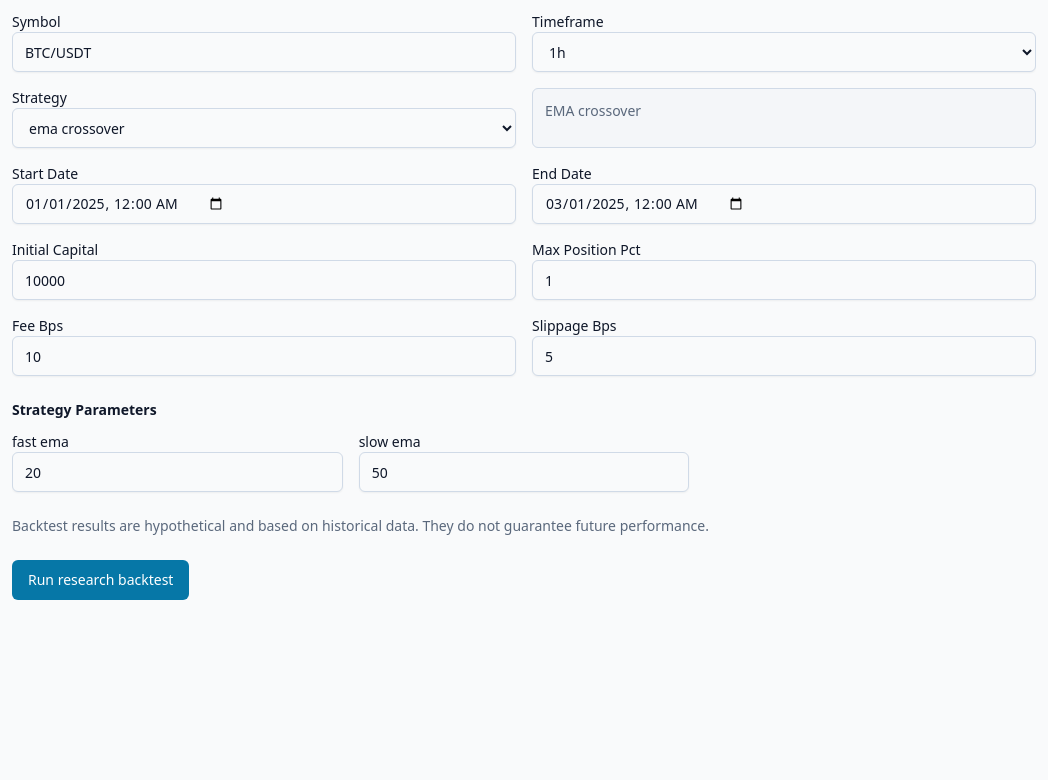
Test: BacktestForm › validates required fields
The width and height of the screenshot is (1048, 780).
Clear the field labelled "Symbol" at x=264, y=52, box [12,32,516,72]
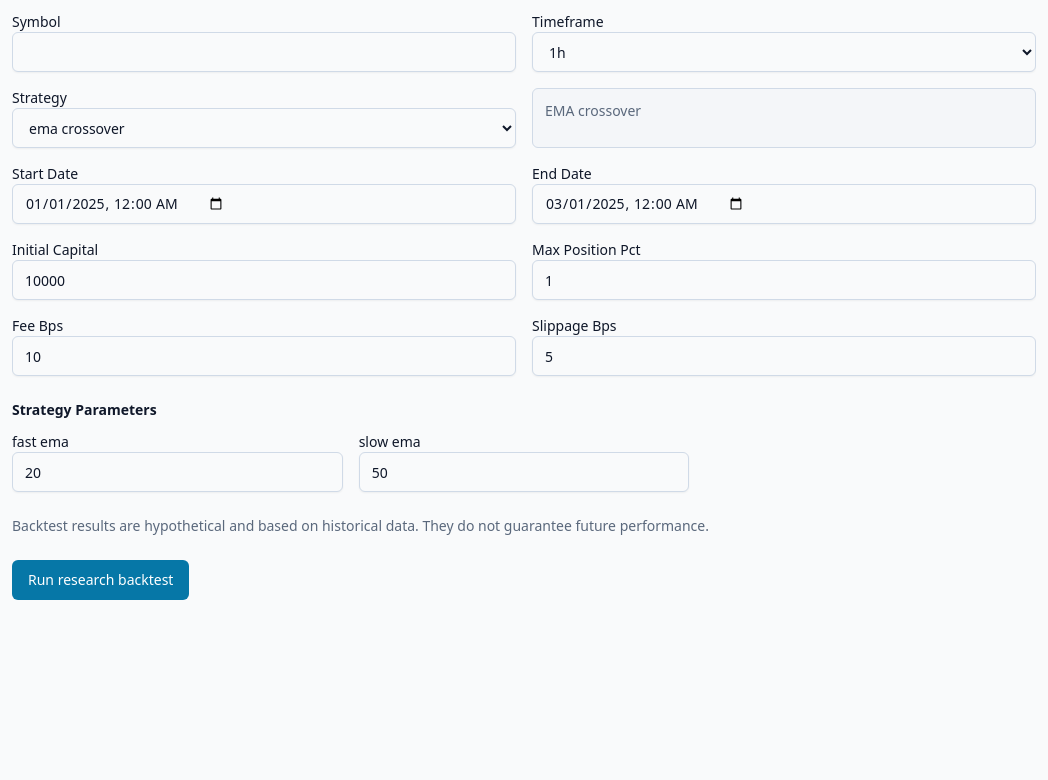
Click the button "Run research backtest" at x=101, y=580, box [12,560,189,600]
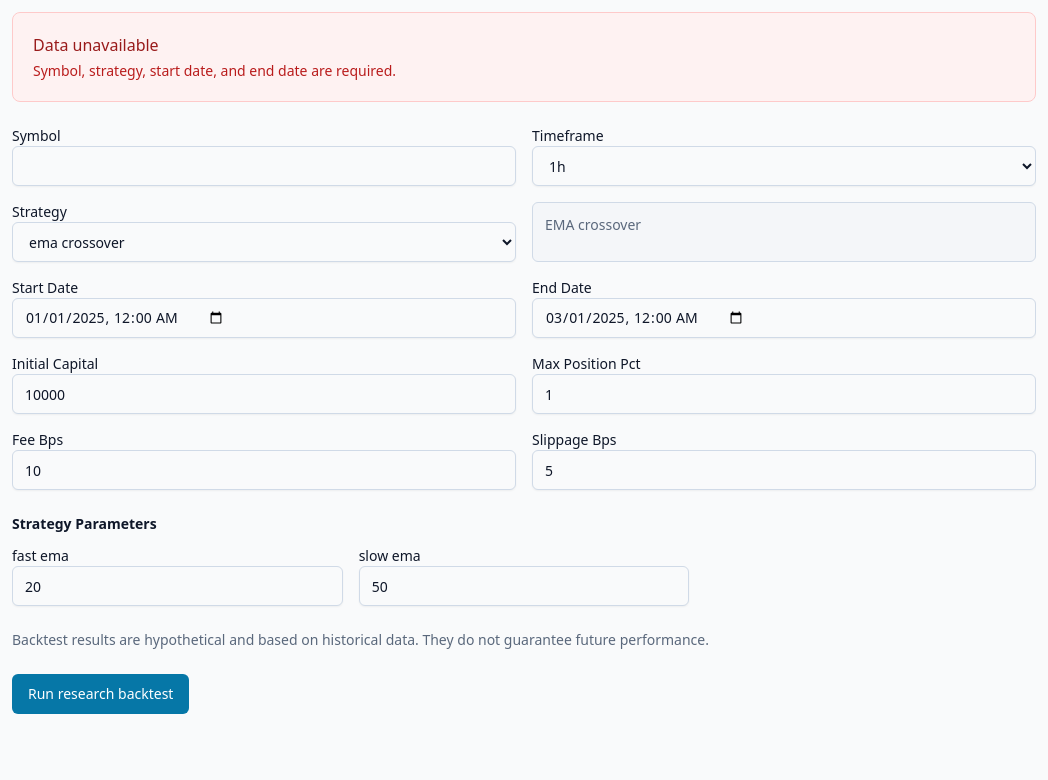
Result: the text "Symbol, strategy, start date, and end date are required." is shown at [33,61,396,80]
